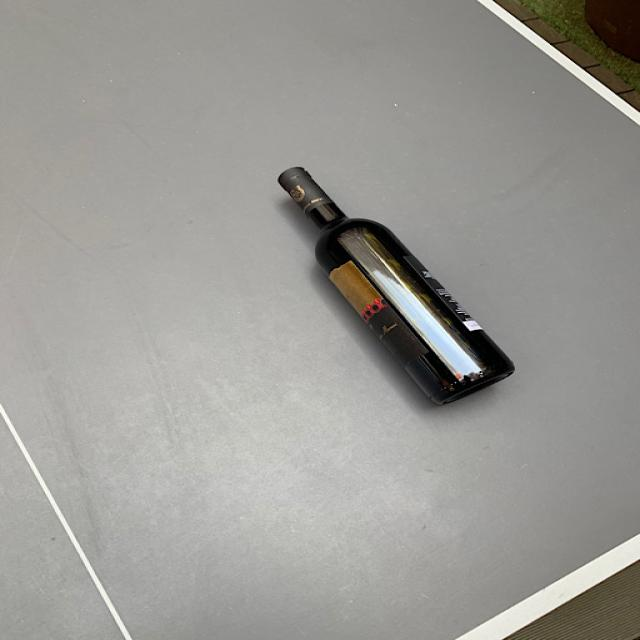litter: (276, 163, 525, 410)
